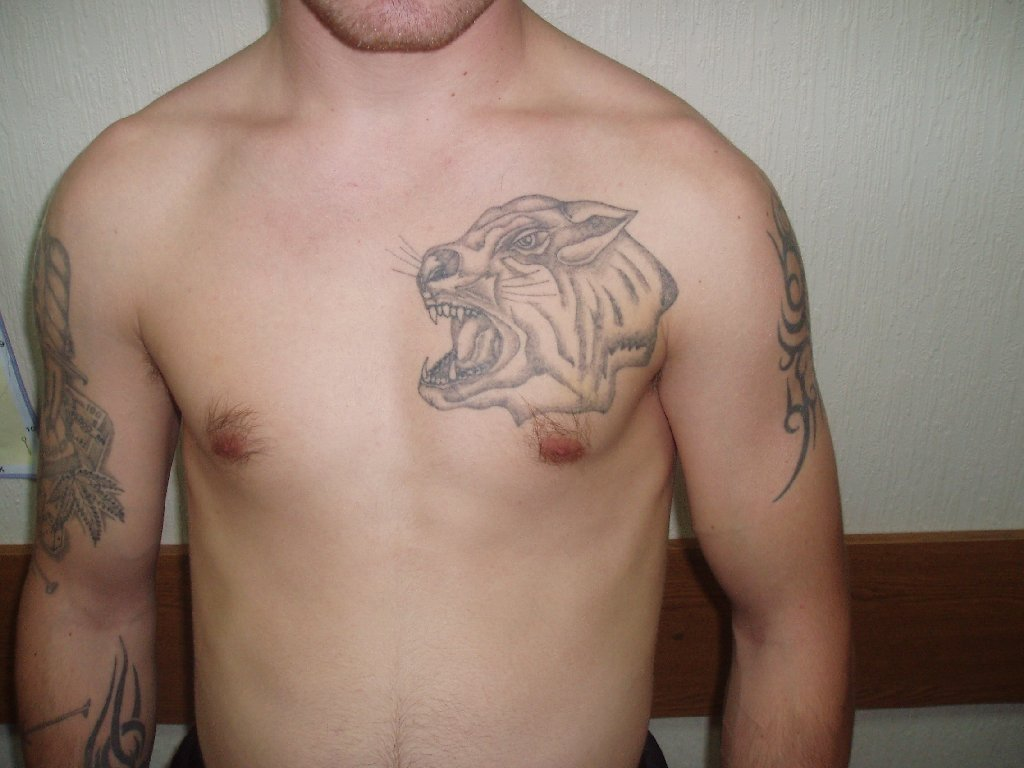tatu5_tigr: (389, 192, 680, 423)
